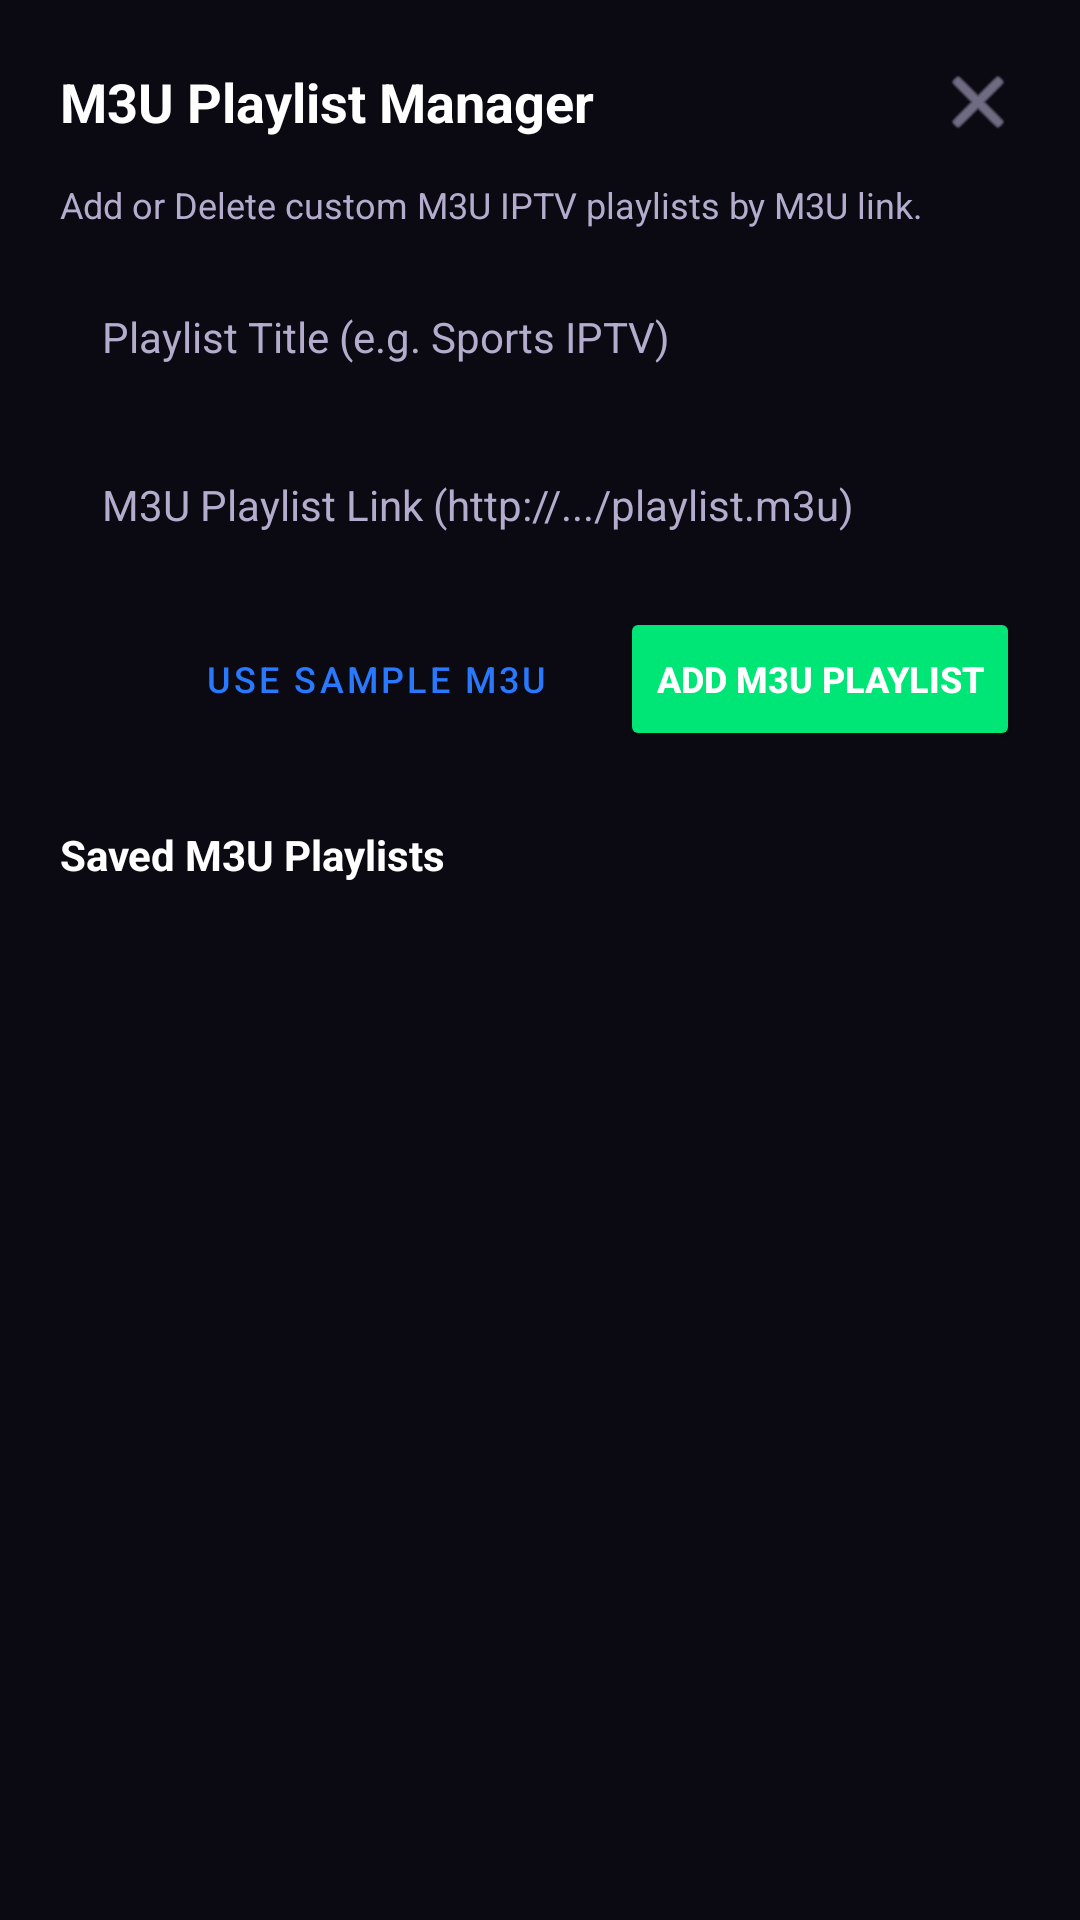

Locate icon controls on the screen. Image size 1080px×1920px, boxes as (x1,y1,x2,y2).
close clear cancel: (952,76,1004,128)
